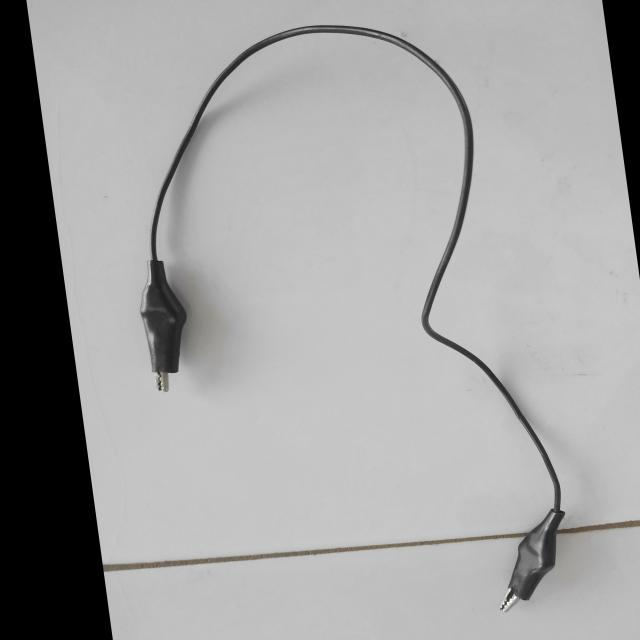BNC Cables Both Clips: (79, 0, 594, 640)
